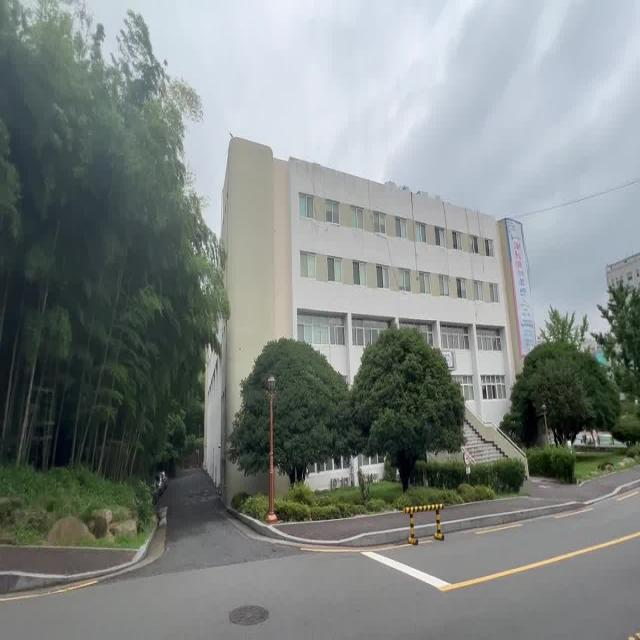building: (224, 118, 502, 324)
